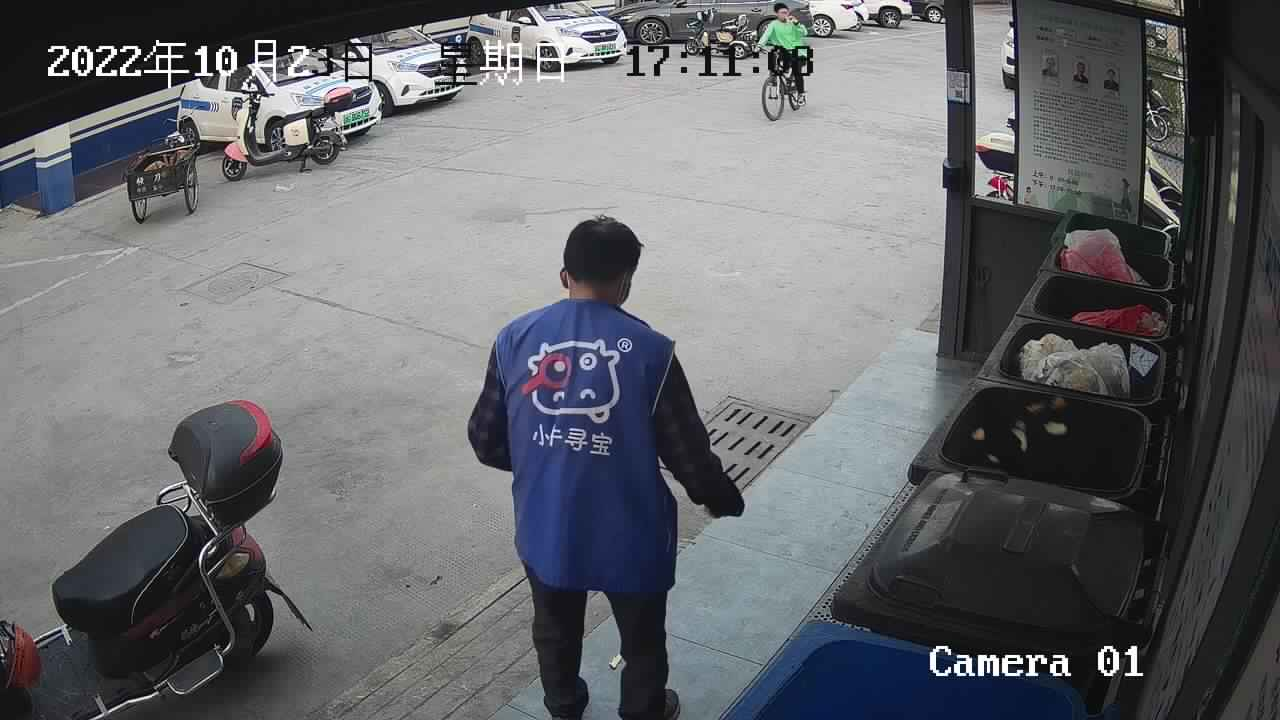worker: (463, 208, 757, 720)
